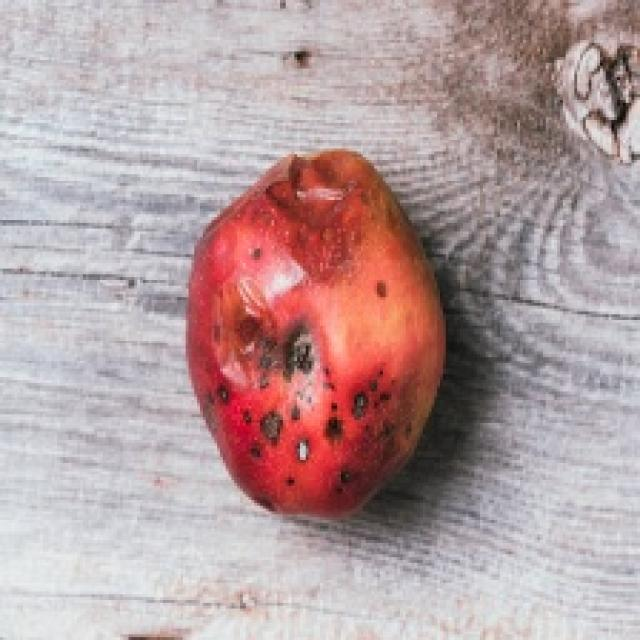rotten_apple: (189, 151, 442, 517)
